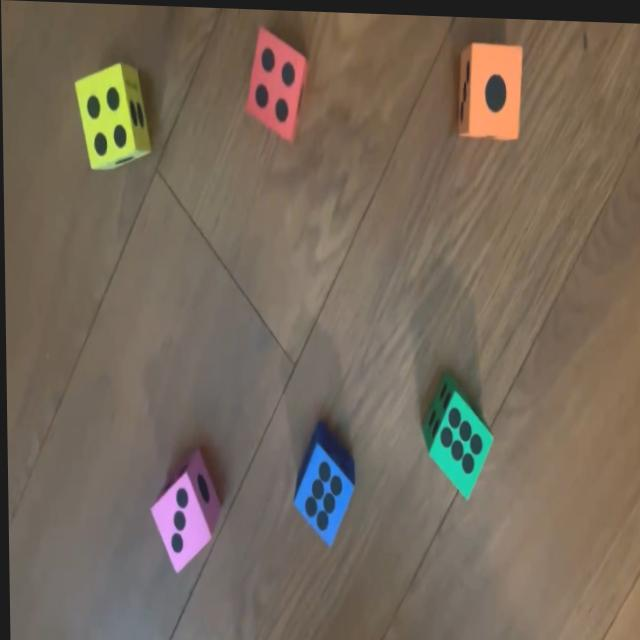cube: (421, 373, 492, 501), (290, 419, 352, 545), (243, 26, 308, 143)
